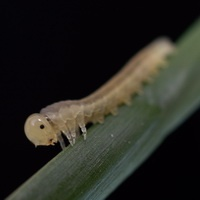insect: (24, 37, 174, 148)
